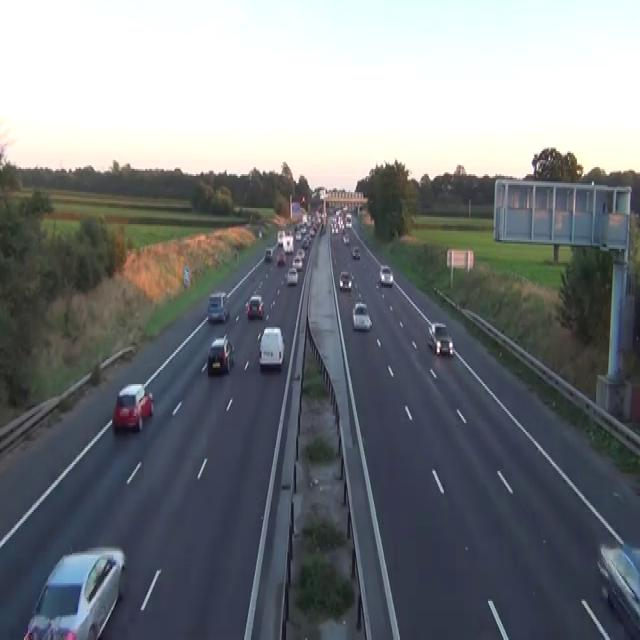Car: (23, 546, 125, 638), (596, 540, 639, 638), (112, 382, 154, 432), (207, 334, 235, 375), (258, 325, 284, 368), (427, 322, 453, 356), (207, 292, 229, 322), (352, 302, 372, 331), (245, 294, 264, 318), (379, 265, 393, 286), (264, 242, 278, 261), (339, 270, 352, 290), (286, 266, 298, 284), (292, 256, 302, 270), (351, 246, 360, 260), (277, 251, 285, 265), (296, 247, 305, 258), (265, 247, 272, 260), (301, 236, 308, 249), (300, 222, 306, 233), (321, 222, 326, 235), (342, 234, 349, 243), (309, 226, 315, 236), (295, 231, 301, 240), (258, 228, 262, 238), (301, 196, 305, 204)
Truck: (282, 233, 293, 252), (277, 230, 284, 246)
